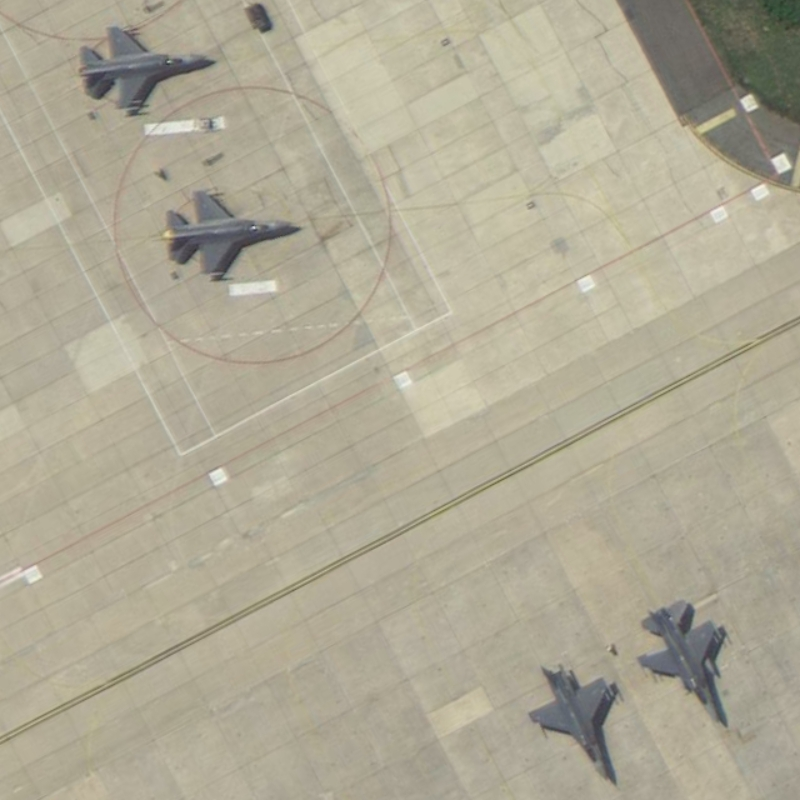A5: (157, 179, 299, 289), (632, 596, 734, 732), (71, 21, 215, 115), (525, 660, 622, 786)
